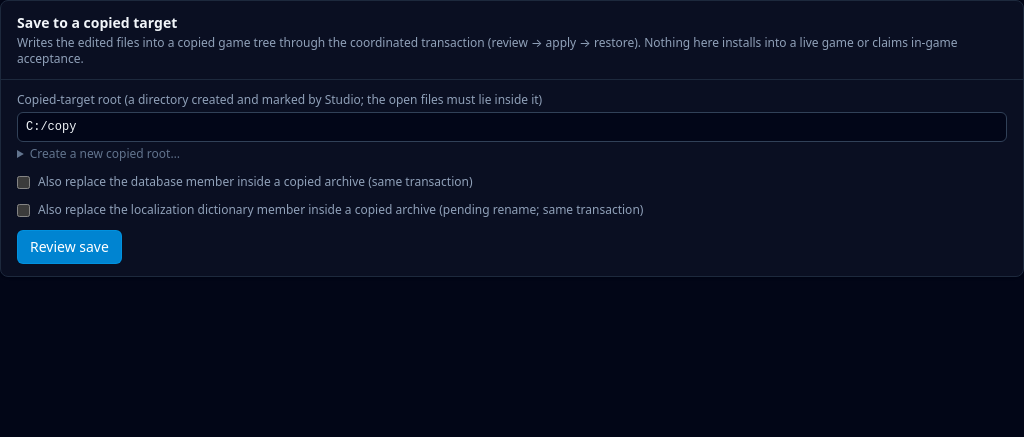
Test case: CopiedTargetPanel review ownership › re-reads the root status before dropping a cancelled apply's handle — never the pre-apply cache
Check: the field labelled "Copied-target root" holds "C:/copy", box [17, 112, 1007, 142]
Click the button "Review save". click: (69, 247)
box: [17, 230, 122, 264]
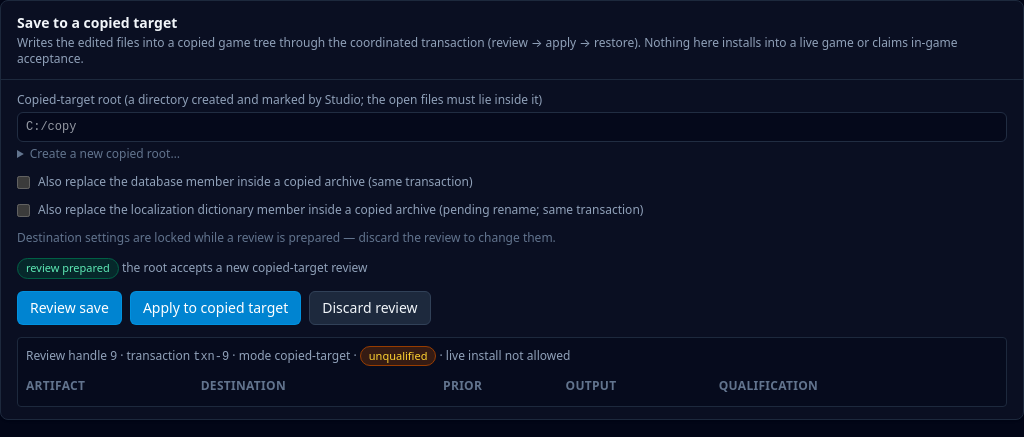
Check: the element named "prepared review" is shown, box [17, 337, 1007, 407]
Click the button "Apply to copied target". click: (216, 308)
box: [130, 291, 301, 325]
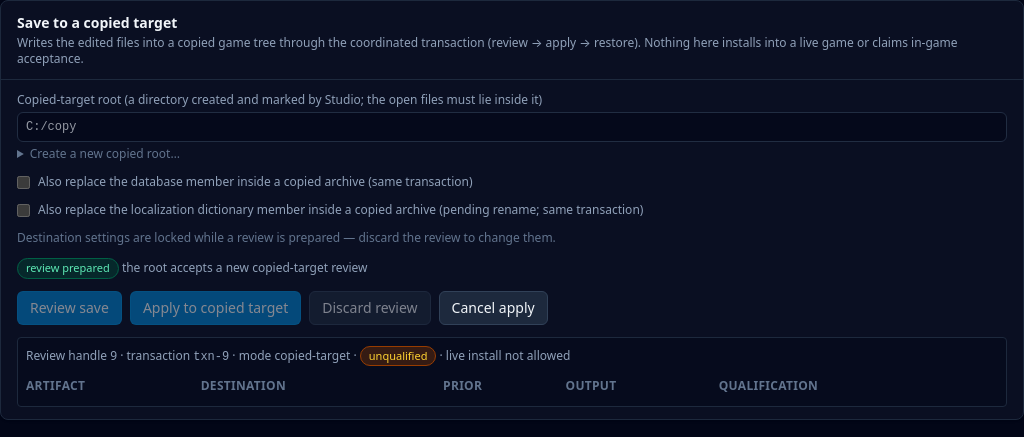
Check: the button "Cancel apply" is shown
Click the button "Cancel apply". click: (493, 308)
box: [439, 291, 548, 325]
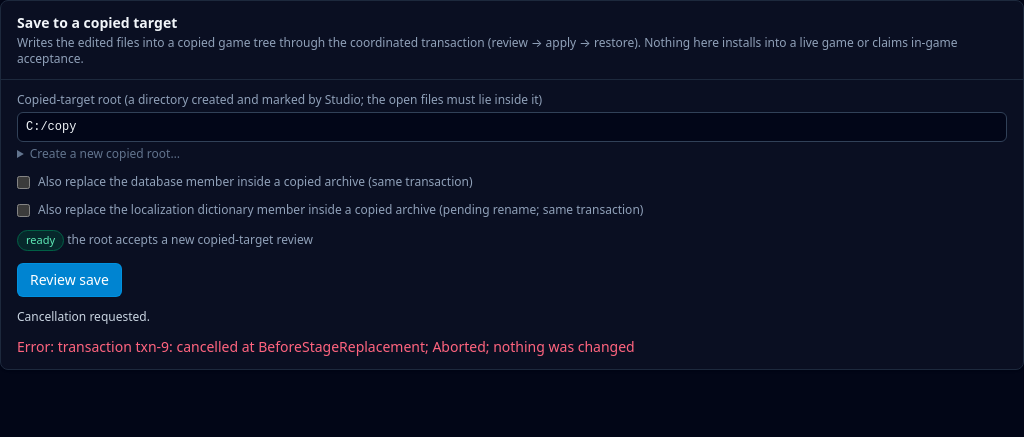
Check: the text "Cancellation requested." is shown, box [17, 308, 150, 325]
Check: the text "cancelled at BeforeStageReplacement" is shown, box [17, 337, 635, 356]
Check: the button "Cancel apply" is gone
